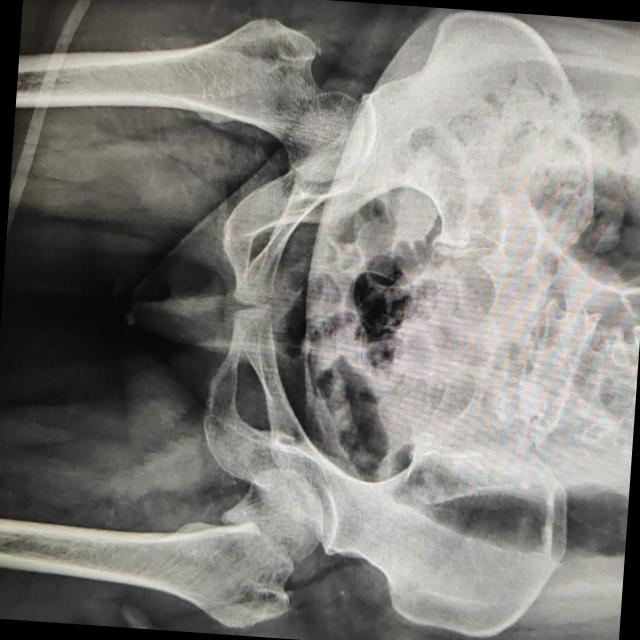left-neck: (76, 520, 294, 631), (219, 467, 322, 572)
normal-right: (113, 18, 364, 183)
